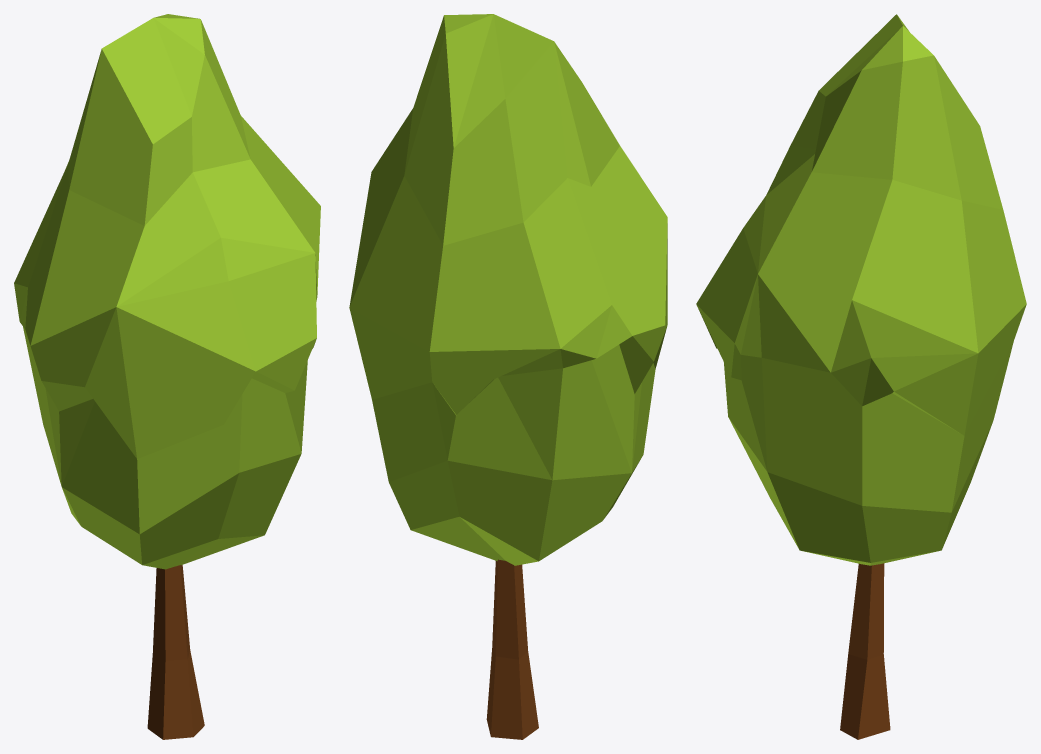
File: Tree_02.FBX
The picture shows the model from 3 angles, left to right: view 1: azimuth 30°, elevation 25°; view 2: azimuth 150°, elevation 25°; view 3: azimuth 270°, elevation 25°; orthographic projection. The views are drawn at different scales.
Visible parts, largest first — view 1: Tree_02; view 2: Tree_02; view 3: Tree_02.
Part boxes in pixels (x1,y1,x2,y2): Tree_02: (14,14,320,739); Tree_02: (349,14,667,739); Tree_02: (696,14,1026,739).
Size of the model in its own units: 391 by 914 by 391.
